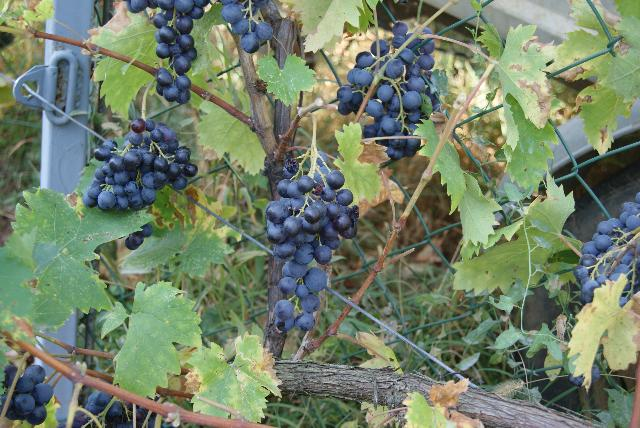grapes: (265, 168, 359, 332), (336, 21, 440, 138), (82, 119, 198, 211), (128, 0, 209, 104)
